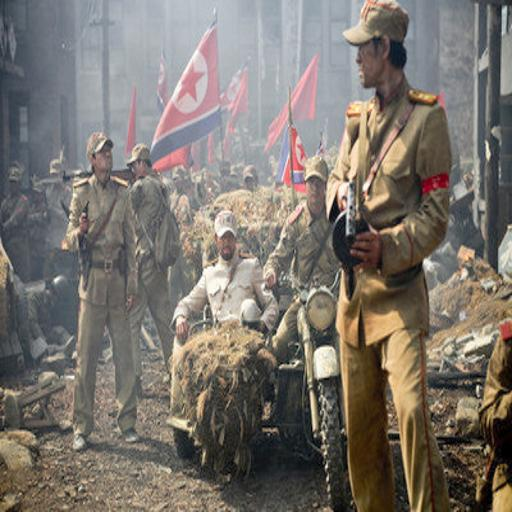north army: (313, 4, 460, 512), (64, 118, 164, 445)
